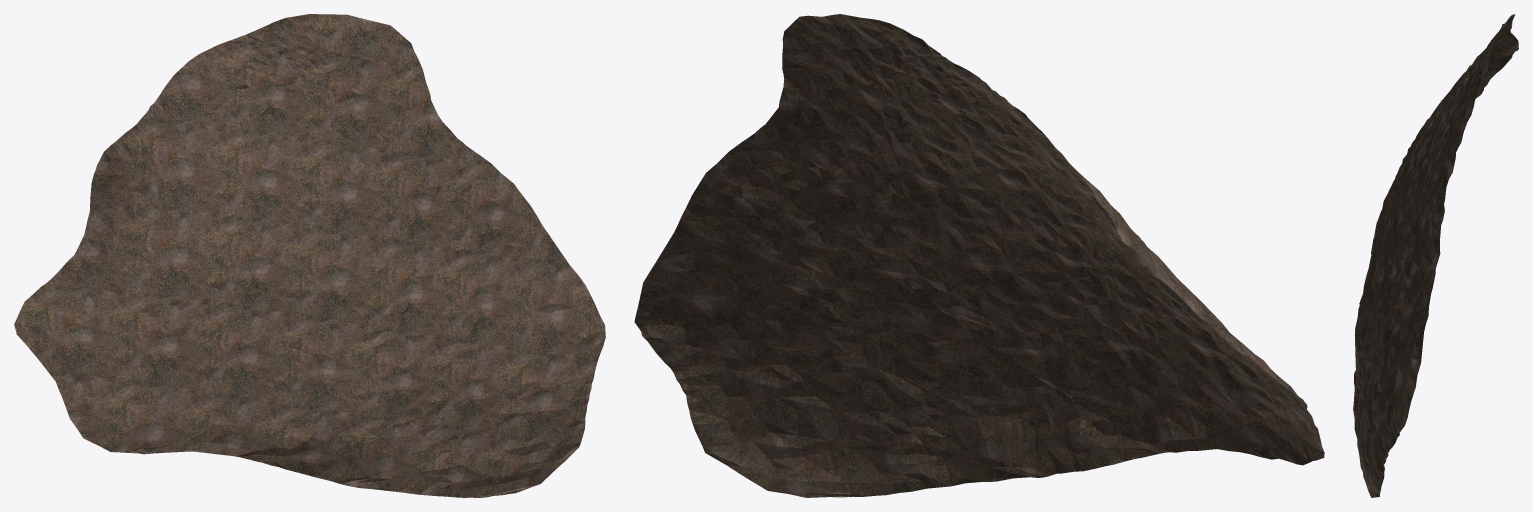
3 views of the same model, side by side, from view 1: azimuth 30°, elevation 25°; view 2: azimuth 150°, elevation 25°; view 3: azimuth 270°, elevation 25° (orthographic). The views are drawn at different scales.
Bounding box in the file's own units: 67.86 × 53.53 × 20.36.
1 material, 1 textured.
